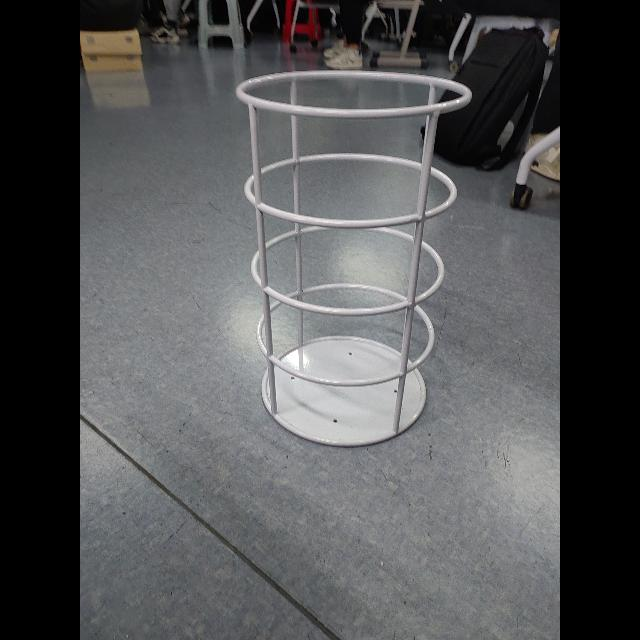S: (231, 65, 475, 451)
